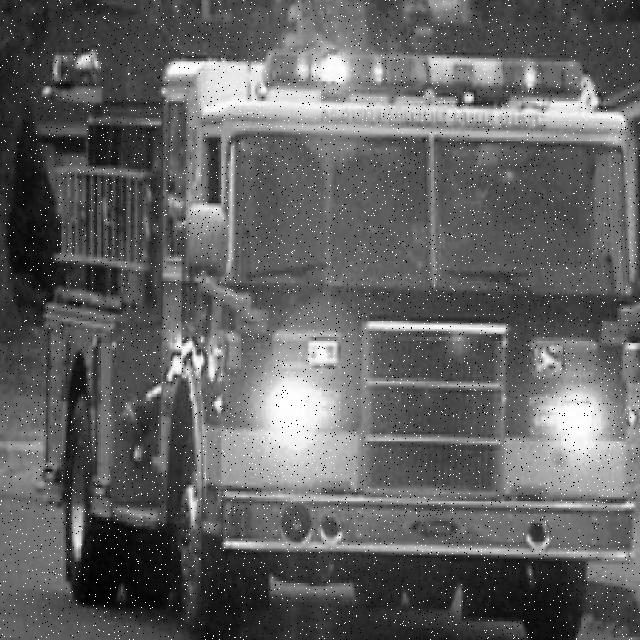Fire Truck: (34, 51, 640, 640)
